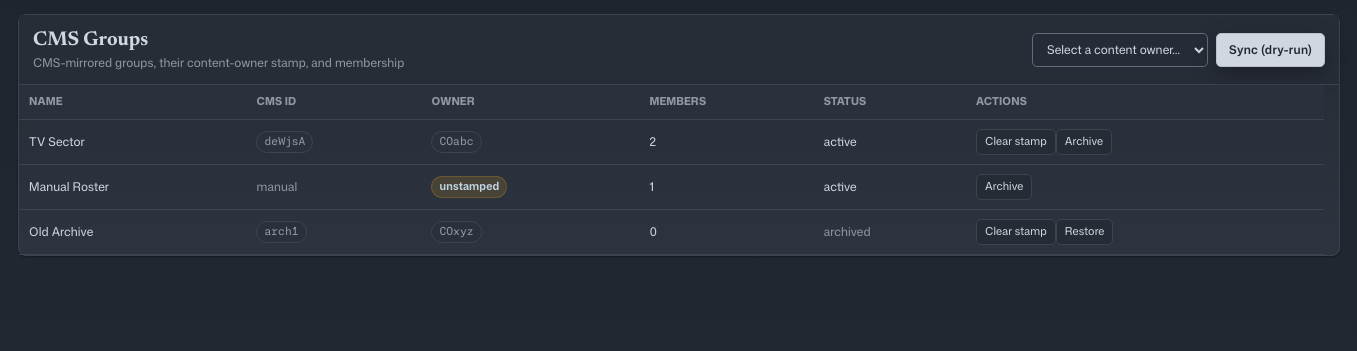
Test: GroupsView sync stepper › restores the table without refetching groups when Cancel is used from Preview
Select "OWNERaaa" in the dropdown named "Content owner". click: (1120,50)
box: top-left (1032, 32), bottom-right (1208, 66)
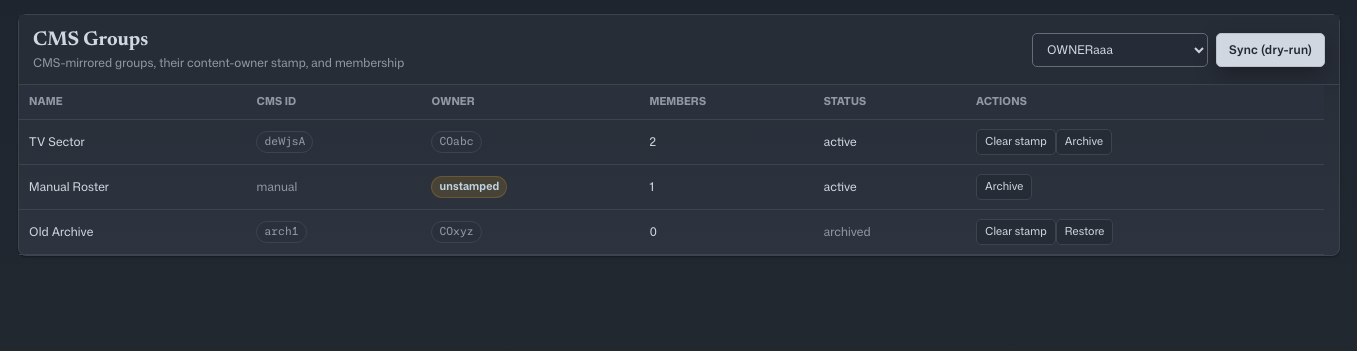
Click the button "Sync (dry-run)". click: (1270,50)
box: top-left (1216, 32), bottom-right (1325, 66)
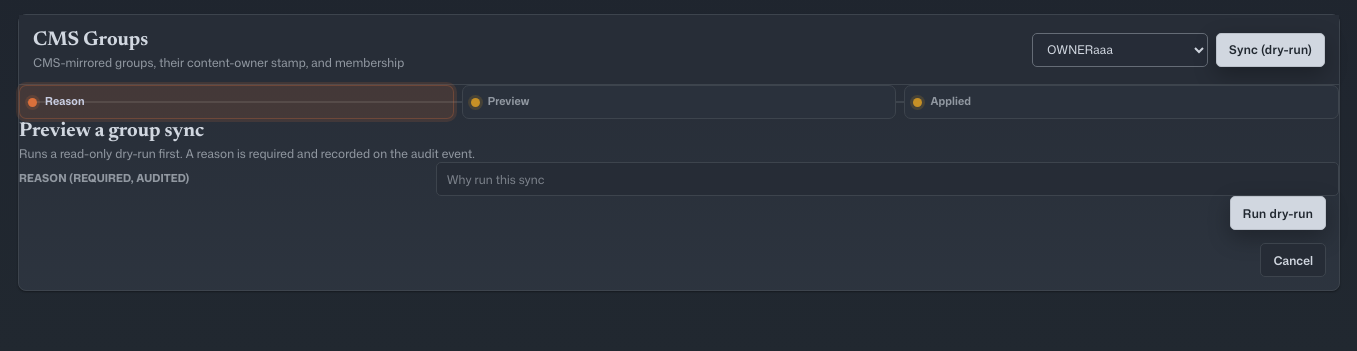
Type "peek" into the field labelled "Reason (required, audited)". click: (887,179)
box: top-left (436, 162), bottom-right (1339, 196)
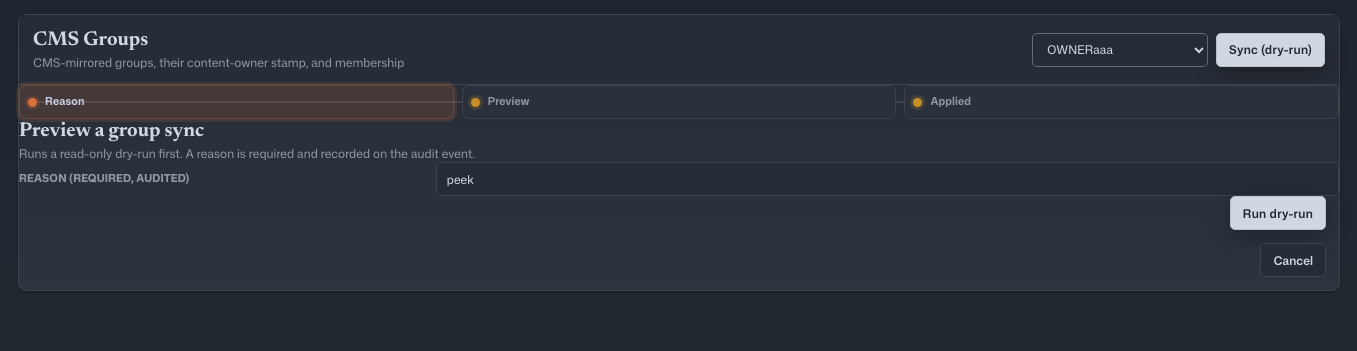
Click the button "Run dry-run". click: (1278,213)
box: top-left (1230, 196), bottom-right (1326, 230)
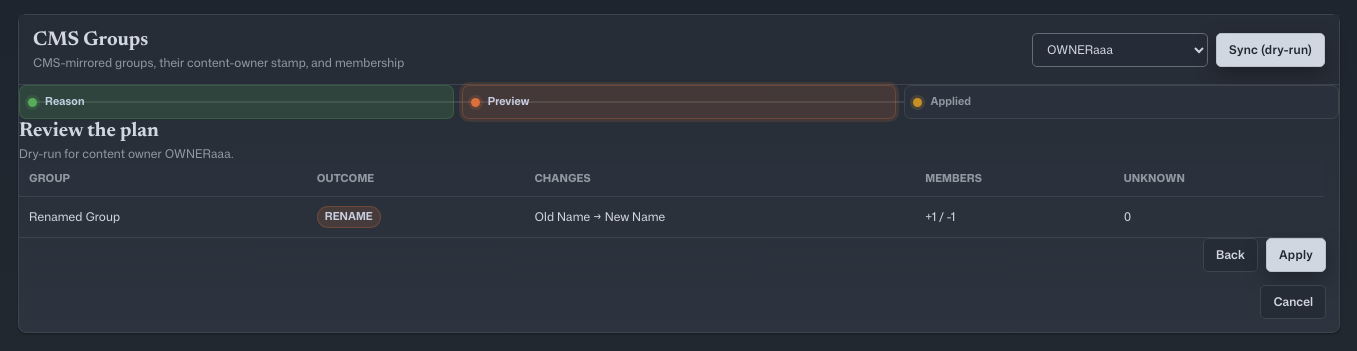
Check: the text "Review the plan" is shown, box top-left (19, 121), bottom-right (159, 141)
Click the button "Cancel". click: (1293,302)
box: top-left (1260, 285), bottom-right (1326, 319)
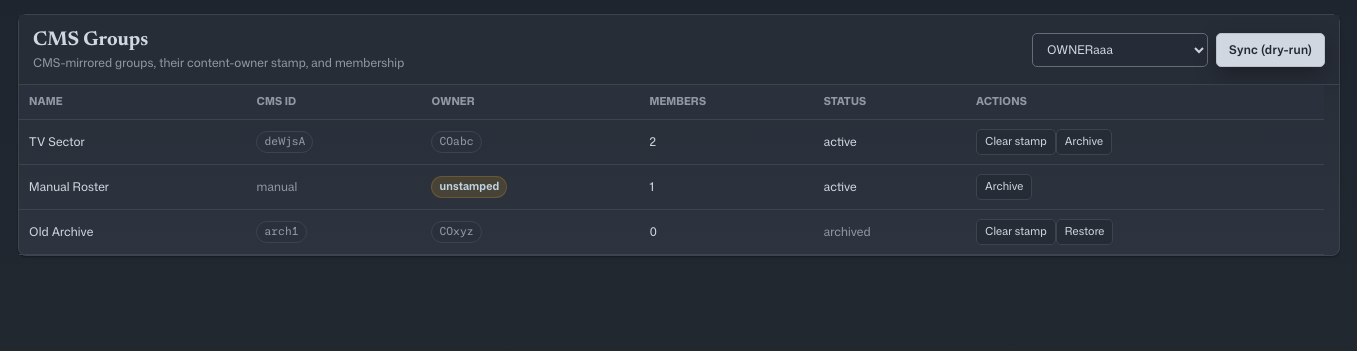
Check: the text "TV Sector" is shown, box top-left (19, 119), bottom-right (246, 164)
